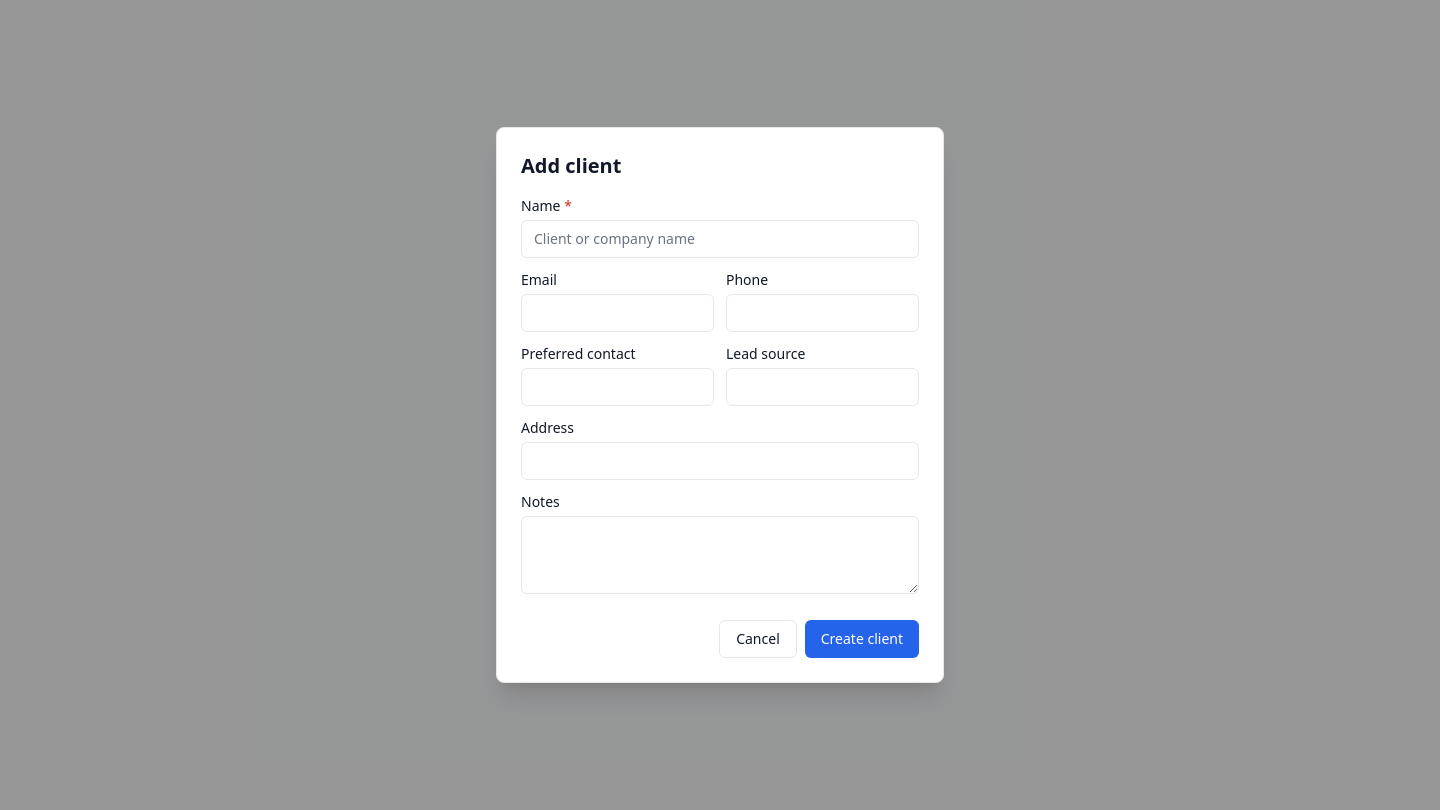
Test case: CreateClientDialog › rejects a blank name and keeps the dialog open
What coordinates should you click on to do the following:
click the button "Create client"
I would click on:
 (862, 639)
Its box is [805,620,919,658].
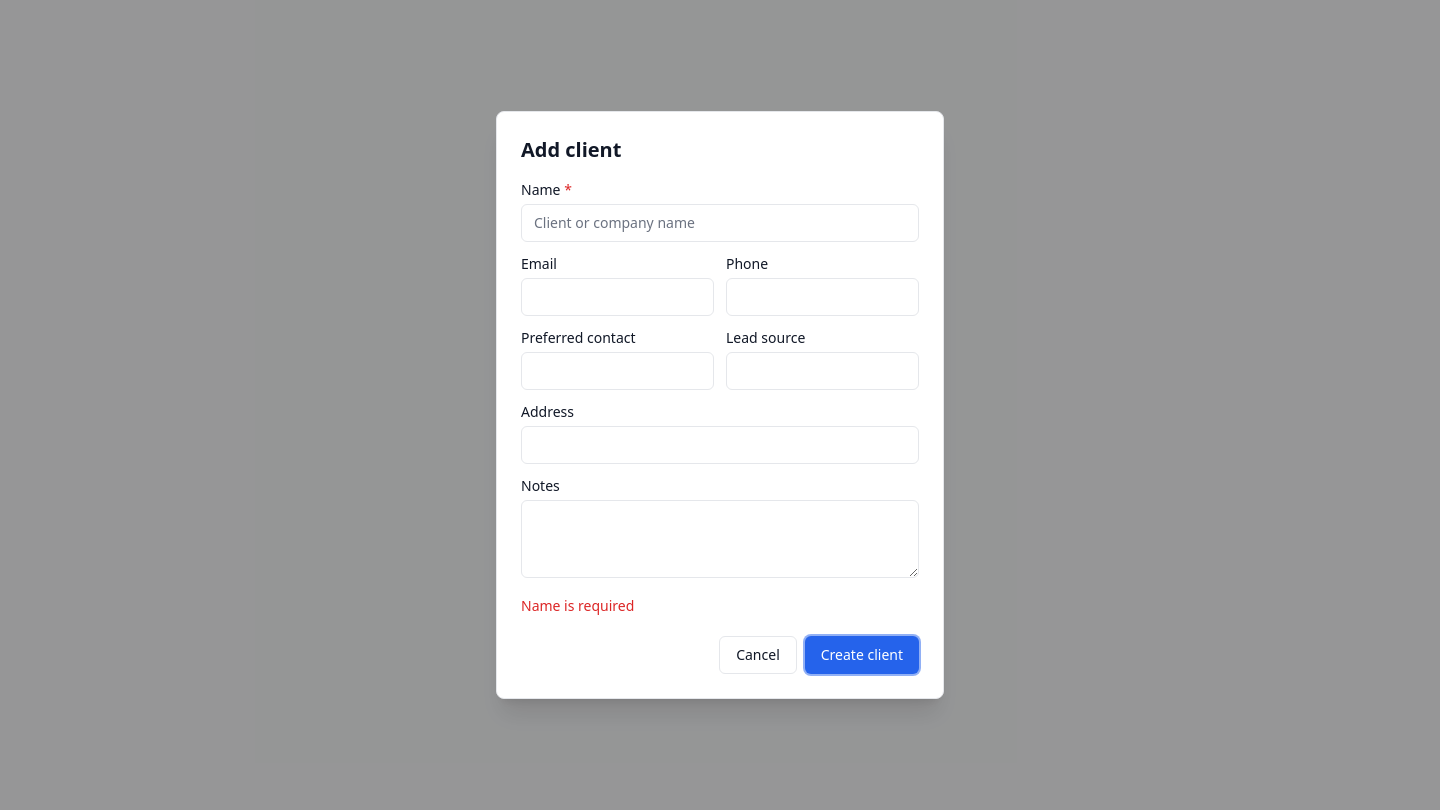
Expected: the message reads "Name is required", [521,596,634,615]
